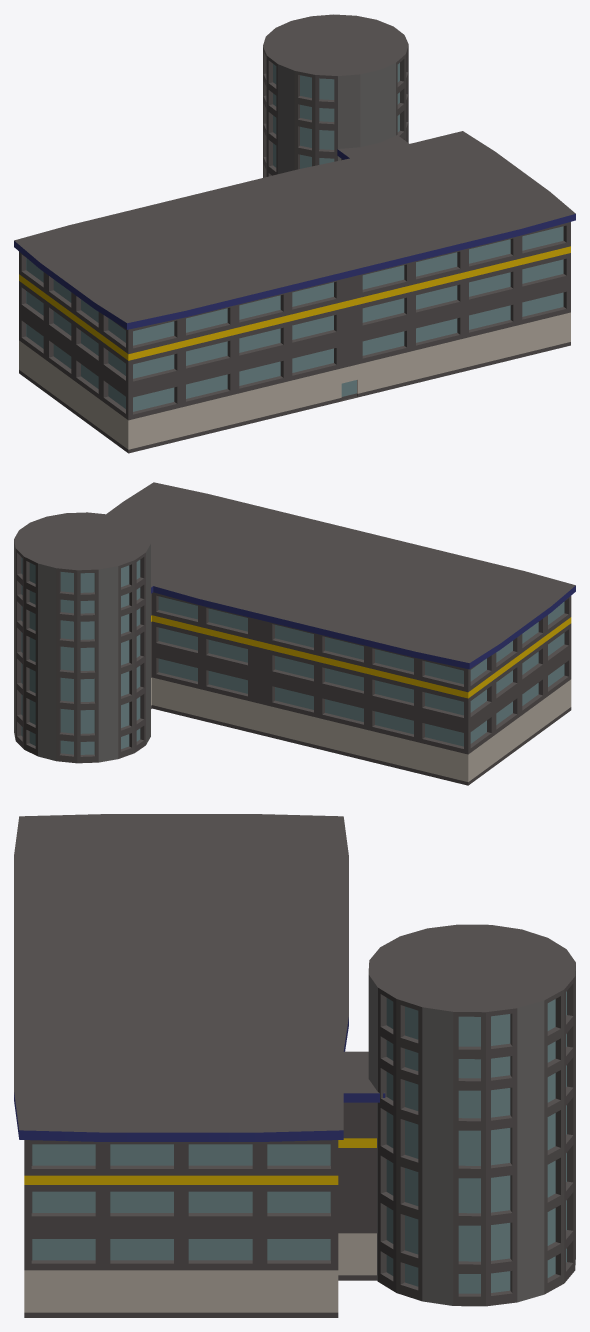
Rendered from Depot_Office_S1.fbx.
3 views of the same model, one above another, from view 1: azimuth 30°, elevation 25°; view 2: azimuth 150°, elevation 25°; view 3: azimuth 270°, elevation 25° (orthographic). The views are drawn at different scales.
Parts seen in each view (by area): view 1: Depot_Office, High_Office; view 2: Depot_Office, High_Office; view 3: Depot_Office, High_Office.
Part boxes in pixels (box(x1,y1,x2,y2)): Depot_Office: box(14, 131, 575, 453); High_Office: box(263, 14, 408, 177); Depot_Office: box(106, 482, 575, 785); High_Office: box(14, 512, 150, 763); Depot_Office: box(14, 814, 385, 1317); High_Office: box(368, 924, 575, 1306).
Bounding box in the file's own units: 7200 × 3101 × 5369.
